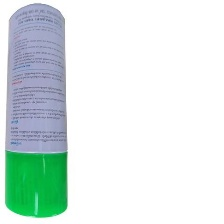aerosol_cans: (0, 1, 72, 222)
